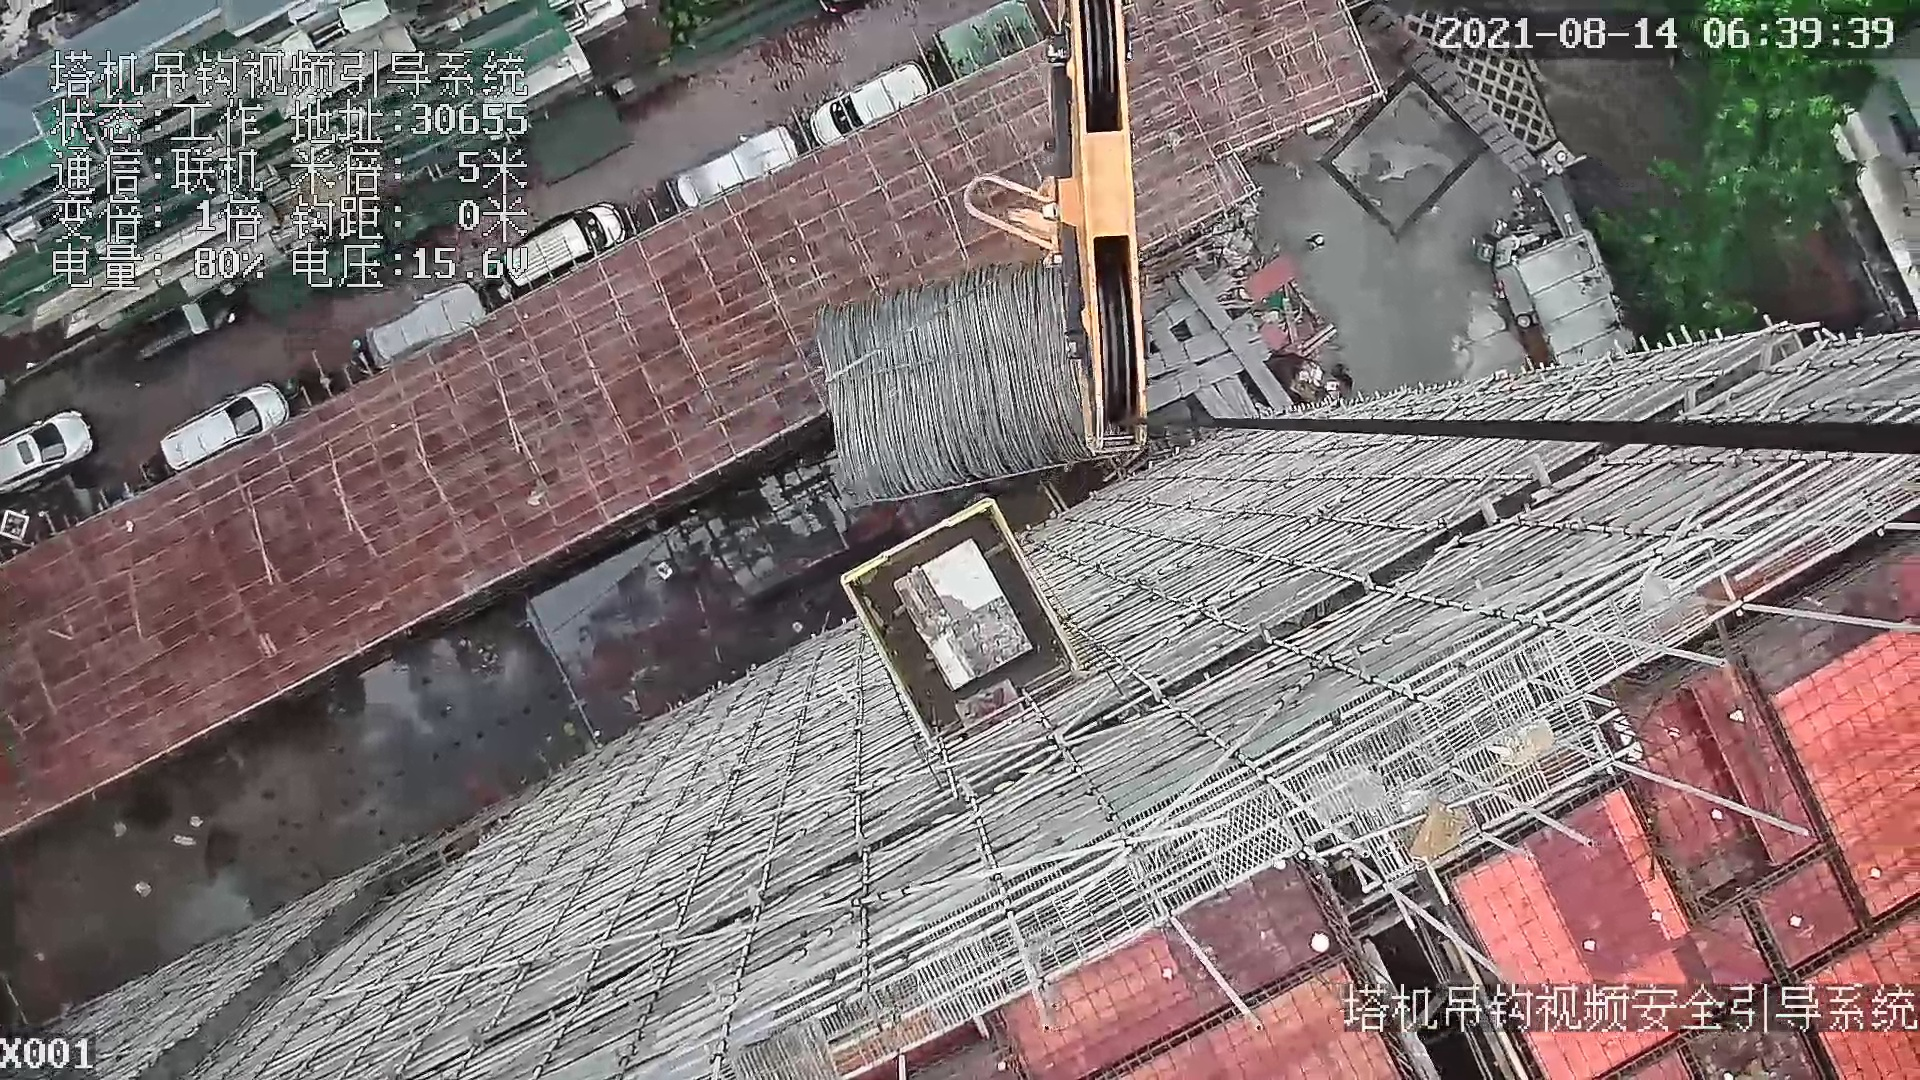hook: (955, 9, 1163, 460)
